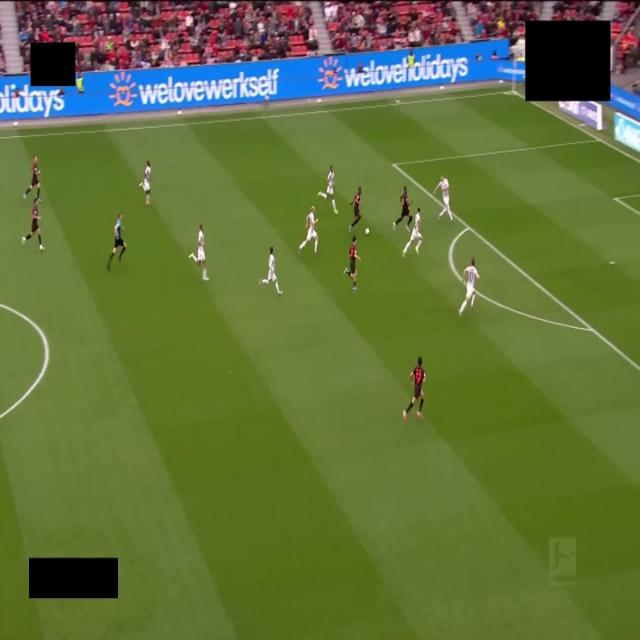ball: (365, 228, 369, 235)
player: (403, 358, 424, 420), (22, 198, 44, 250), (459, 258, 479, 315), (189, 224, 208, 280), (260, 247, 282, 295), (402, 208, 422, 257), (318, 166, 338, 214), (299, 207, 318, 255), (434, 176, 453, 222), (344, 236, 360, 290), (393, 186, 412, 231), (23, 156, 40, 201), (349, 187, 361, 231), (139, 161, 150, 205)
referee: (107, 213, 126, 270)
